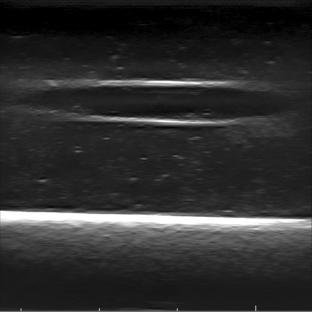vessel: (17, 79, 297, 127)
